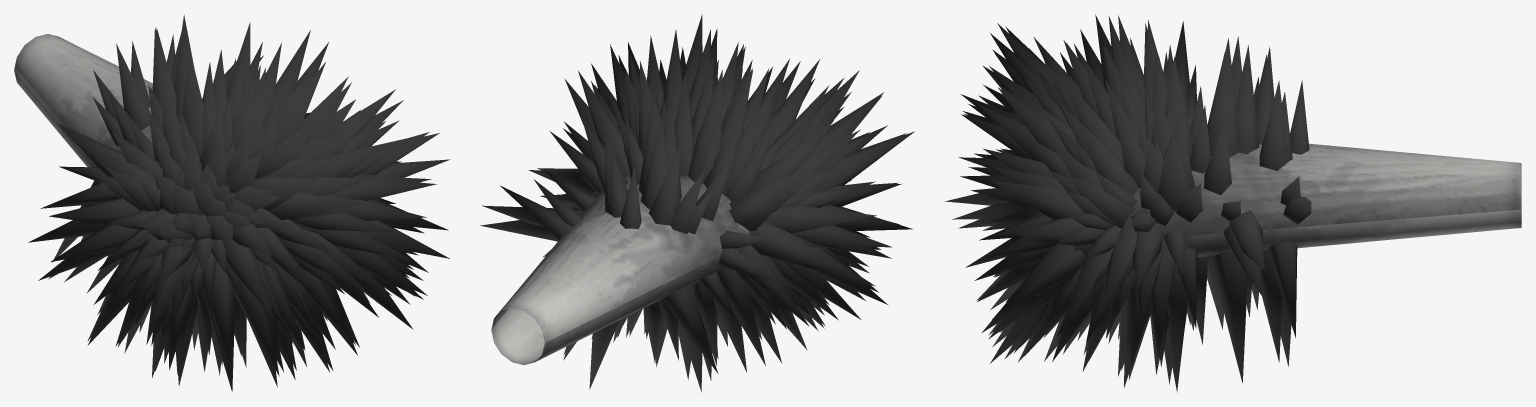
Rendered from fingerprint_brush_ironHead.fbx.
The picture shows the model from 3 angles, left to right: view 1: azimuth 30°, elevation 25°; view 2: azimuth 150°, elevation 25°; view 3: azimuth 270°, elevation 25°; orthographic projection. The views are drawn at different scales.
Parts seen in each view (by area): view 1: fingerprint_kit_01.brush 01.001, fingerprint_kit_01.brush 01.001|Cone.001|Dupli|354, fingerprint_kit_01.brush 01.001|Cone.001|Dupli|334, fingerprint_kit_01.brush 01.001|Cone.001|Dupli|341, fingerprint_kit_01.brush 01.001|Cone.001|Dupli|806, fingerprint_kit_01.brush 01.001|Cone.001|Dupli|239, fingerprint_kit_01.brush 01.001|Cone.001|Dupli|712, fingerprint_kit_01.brush 01.001|Cone.001|Dupli|956, fingerprint_kit_01.brush 01.001|Cone.001|Dupli|238, fingerprint_kit_01.brush 01.001|Cone.001|Dupli|149, fingerprint_kit_01.brush 01.001|Cone.001|Dupli|251, fingerprint_kit_01.brush 01.001|Cone.001|Dupli|379 (+94 smaller); view 2: fingerprint_kit_01.brush 01.001, fingerprint_kit_01.brush 01.001|Cone.001|Dupli|805, fingerprint_kit_01.brush 01.001|Cone.001|Dupli|712, fingerprint_kit_01.brush 01.001|Cone.001|Dupli|891, fingerprint_kit_01.brush 01.001|Cone.001|Dupli|589, fingerprint_kit_01.brush 01.001|Cone.001|Dupli|663, fingerprint_kit_01.brush 01.001|Cone.001|Dupli|899, fingerprint_kit_01.brush 01.001|Cone.001|Dupli|817, fingerprint_kit_01.brush 01.001|Cone.001|Dupli|176, fingerprint_kit_01.brush 01.001|Cone.001|Dupli|649, fingerprint_kit_01.brush 01.001|Cone.001|Dupli|434, fingerprint_kit_01.brush 01.001|Cone.001|Dupli|956 (+66 smaller); view 3: fingerprint_kit_01.brush 01.001, fingerprint_kit_01.brush 01.001|Cone.001|Dupli|944, fingerprint_kit_01.brush 01.001|Cone.001|Dupli|142, fingerprint_kit_01.brush 01.001|Cone.001|Dupli|980, fingerprint_kit_01.brush 01.001|Cone.001|Dupli|927, fingerprint_kit_01.brush 01.001|Cone.001|Dupli|979, fingerprint_kit_01.brush 01.001|Cone.001|Dupli|728, fingerprint_kit_01.brush 01.001|Cone.001|Dupli|981, fingerprint_kit_01.brush 01.001|Cone.001|Dupli|727, fingerprint_kit_01.brush 01.001|Cone.001|Dupli|729, fingerprint_kit_01.brush 01.001|Cone.001|Dupli|948, fingerprint_kit_01.brush 01.001|Cone.001|Dupli|843 (+59 smaller).
Part boxes in pixels (x1,y1,x2,y2): fingerprint_kit_01.brush 01.001: [14, 34, 203, 277]; fingerprint_kit_01.brush 01.001|Cone.001|Dupli|354: [210, 261, 235, 376]; fingerprint_kit_01.brush 01.001|Cone.001|Dupli|334: [222, 239, 269, 309]; fingerprint_kit_01.brush 01.001|Cone.001|Dupli|341: [235, 277, 279, 376]; fingerprint_kit_01.brush 01.001|Cone.001|Dupli|806: [50, 210, 139, 262]; fingerprint_kit_01.brush 01.001|Cone.001|Dupli|239: [294, 222, 412, 260]; fingerprint_kit_01.brush 01.001|Cone.001|Dupli|712: [49, 198, 139, 225]; fingerprint_kit_01.brush 01.001|Cone.001|Dupli|956: [116, 43, 150, 130]; fingerprint_kit_01.brush 01.001|Cone.001|Dupli|238: [279, 238, 365, 289]; fingerprint_kit_01.brush 01.001|Cone.001|Dupli|149: [290, 213, 393, 232]; fingerprint_kit_01.brush 01.001|Cone.001|Dupli|251: [338, 246, 427, 295]; fingerprint_kit_01.brush 01.001|Cone.001|Dupli|379: [150, 250, 196, 331]; fingerprint_kit_01.brush 01.001: [491, 176, 750, 364]; fingerprint_kit_01.brush 01.001|Cone.001|Dupli|805: [749, 220, 852, 272]; fingerprint_kit_01.brush 01.001|Cone.001|Dupli|712: [765, 205, 876, 233]; fingerprint_kit_01.brush 01.001|Cone.001|Dupli|891: [717, 267, 765, 365]; fingerprint_kit_01.brush 01.001|Cone.001|Dupli|589: [688, 69, 722, 181]; fingerprint_kit_01.brush 01.001|Cone.001|Dupli|663: [749, 120, 833, 194]; fingerprint_kit_01.brush 01.001|Cone.001|Dupli|899: [662, 285, 718, 373]; fingerprint_kit_01.brush 01.001|Cone.001|Dupli|817: [578, 70, 629, 177]; fingerprint_kit_01.brush 01.001|Cone.001|Dupli|176: [816, 131, 914, 190]; fingerprint_kit_01.brush 01.001|Cone.001|Dupli|649: [729, 163, 817, 230]; fingerprint_kit_01.brush 01.001|Cone.001|Dupli|434: [674, 73, 692, 176]; fingerprint_kit_01.brush 01.001|Cone.001|Dupli|956: [648, 146, 680, 225]; fingerprint_kit_01.brush 01.001: [1074, 143, 1521, 257]; fingerprint_kit_01.brush 01.001|Cone.001|Dupli|944: [1209, 251, 1247, 382]; fingerprint_kit_01.brush 01.001|Cone.001|Dupli|142: [992, 243, 1085, 319]; fingerprint_kit_01.brush 01.001|Cone.001|Dupli|980: [1207, 38, 1239, 157]; fingerprint_kit_01.brush 01.001|Cone.001|Dupli|927: [1267, 241, 1297, 337]; fingerprint_kit_01.brush 01.001|Cone.001|Dupli|979: [1236, 45, 1259, 153]; fingerprint_kit_01.brush 01.001|Cone.001|Dupli|728: [1057, 244, 1113, 336]; fingerprint_kit_01.brush 01.001|Cone.001|Dupli|981: [1259, 80, 1287, 170]; fingerprint_kit_01.brush 01.001|Cone.001|Dupli|727: [1103, 226, 1137, 305]; fingerprint_kit_01.brush 01.001|Cone.001|Dupli|729: [1150, 244, 1175, 356]; fingerprint_kit_01.brush 01.001|Cone.001|Dupli|948: [1261, 249, 1282, 362]; fingerprint_kit_01.brush 01.001|Cone.001|Dupli|843: [1157, 136, 1189, 211].
Size of what is drawn, in the model's own units: 18.15 by 14.73 by 23.38.
